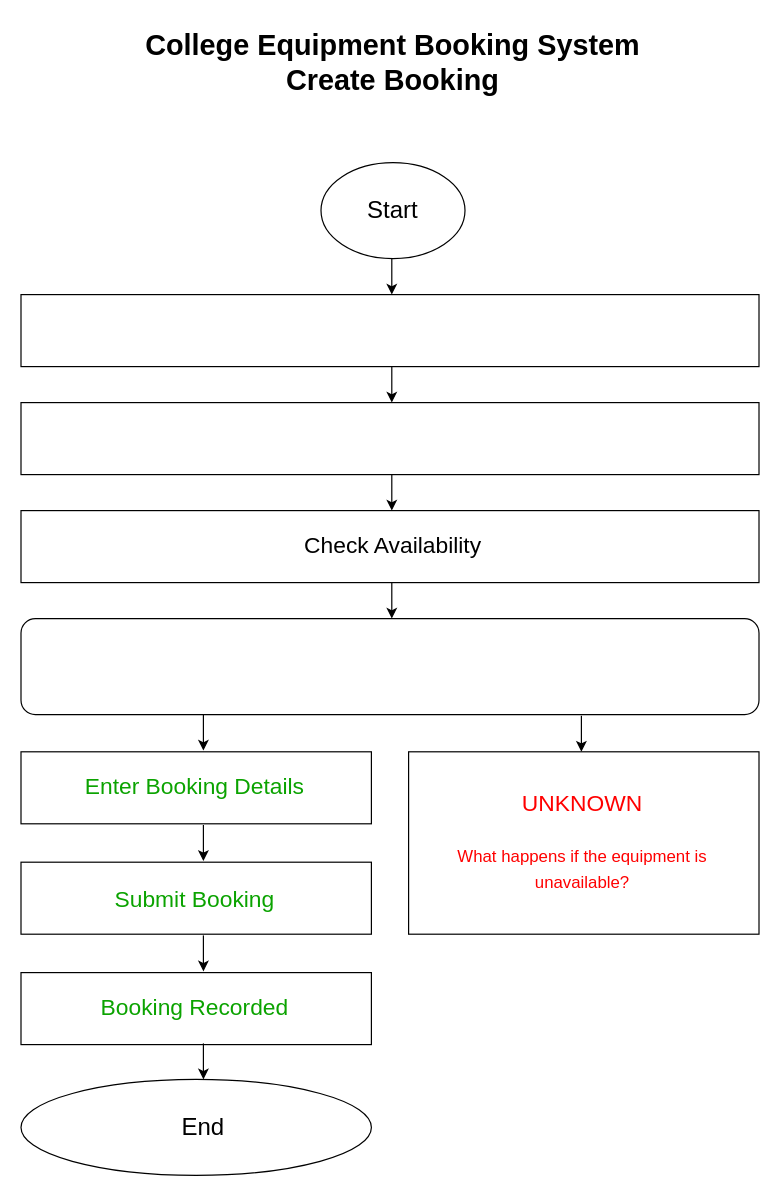
The diagram is 780 pixels wide and 1196 high, and some of its shapes have lost their labels. Here are the shapes that lost their labels. From the top down, the box of each, then its label:
(20, 293, 759, 367): Select Equipment
(20, 401, 759, 475): Select Date
(20, 617, 759, 715): Is equipment available?
